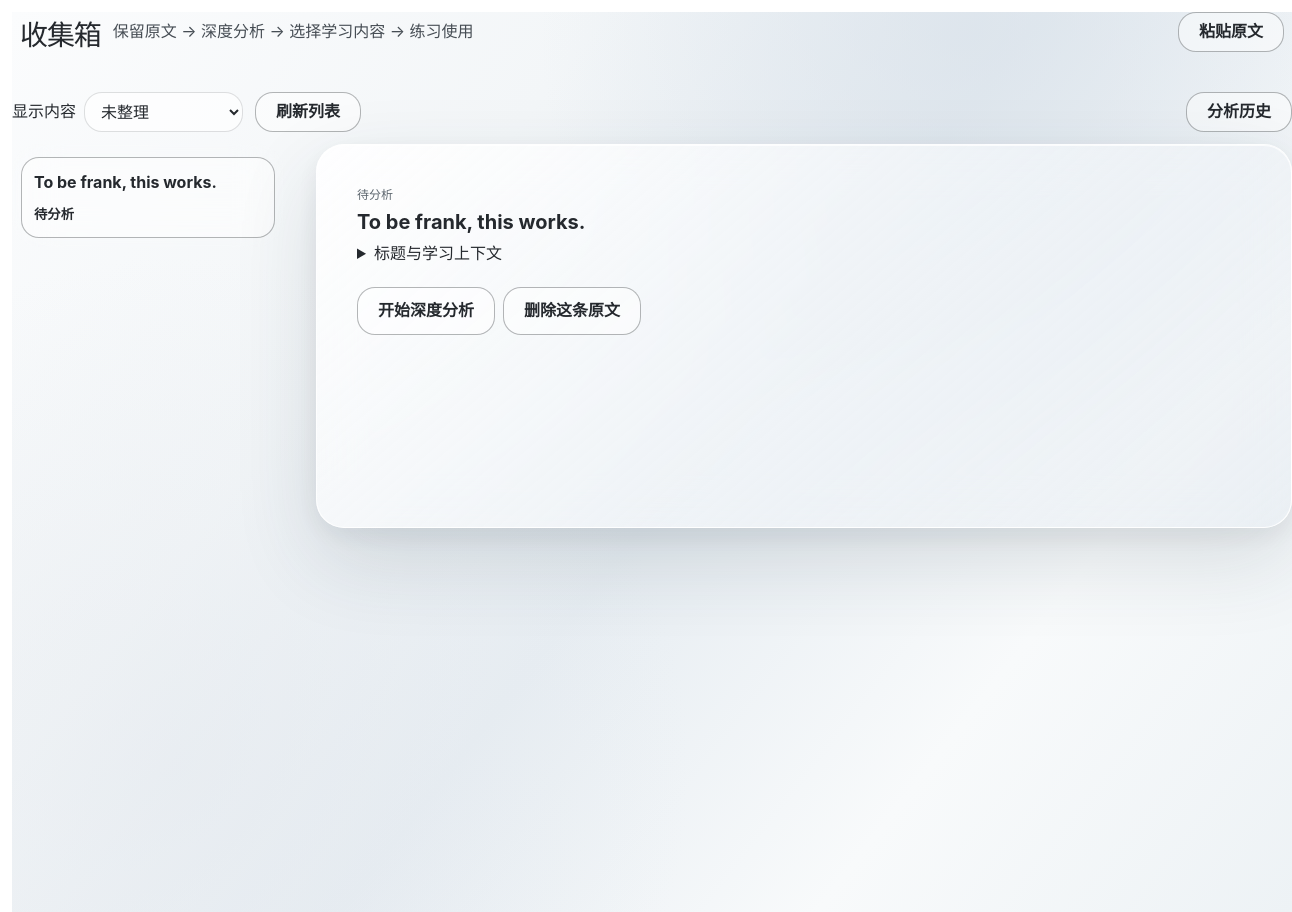
Test: keeps failed original text, recovery classification and diagnostic for model_output_invalid
Click the button "开始深度分析": (426, 311) left=357, top=287, right=495, bottom=335
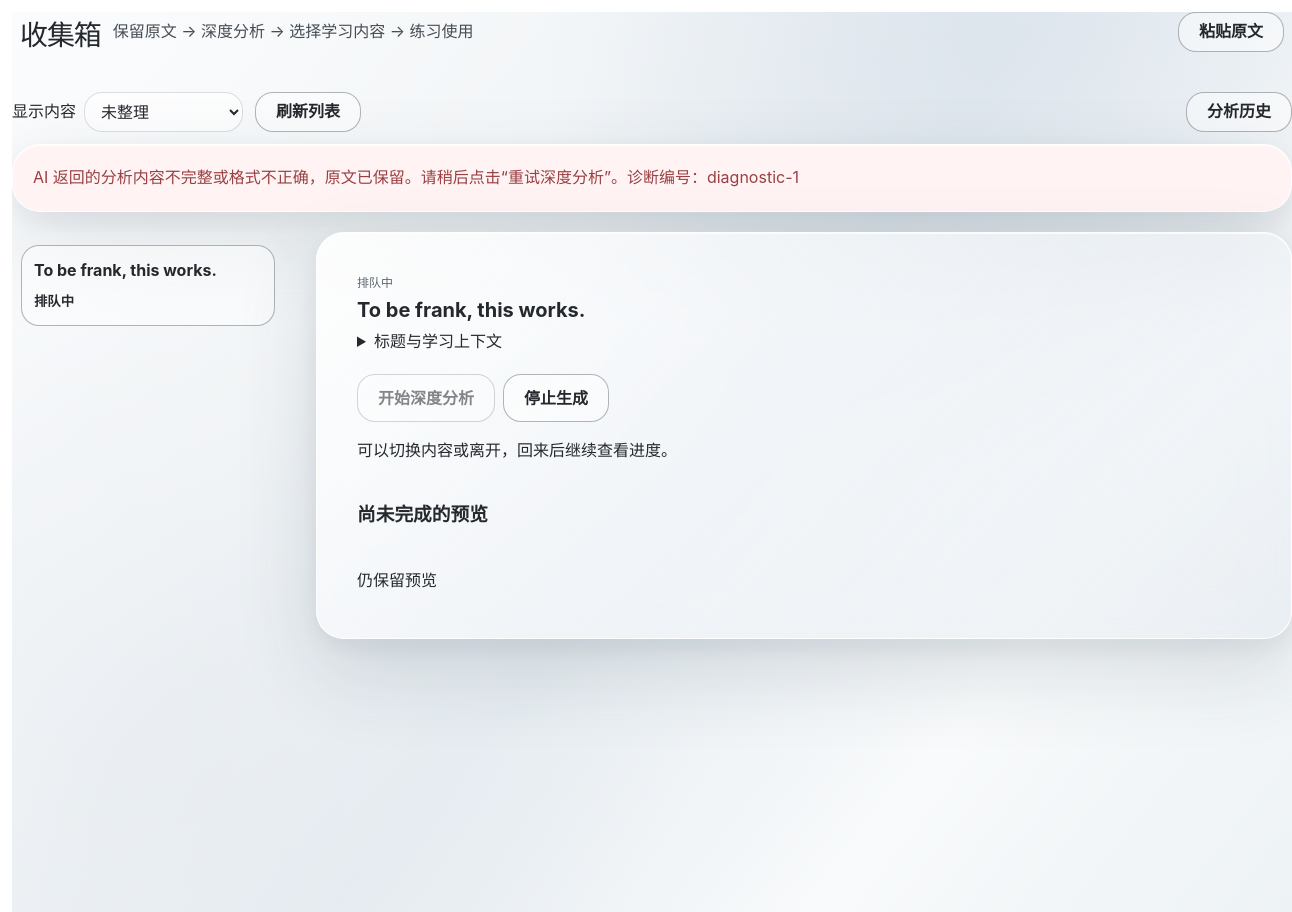
expect the text "To be frank, this works." is shown: met, box left=34, top=260, right=217, bottom=280
expect the message "AI 返回的分析内容不完整或格式不正确，原文已保留。请稍后点击“重试深度分析”。诊断编号：diagnostic-1" is shown: met, box left=12, top=144, right=1291, bottom=212
expect the text "diagnostic-1" is shown: met, box left=33, top=167, right=799, bottom=187
